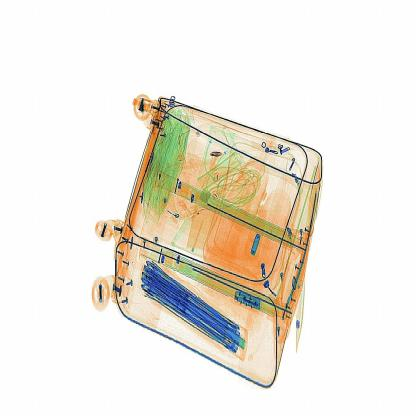wrench: (208, 145, 231, 164)
